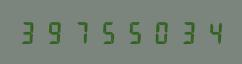five: (95, 20, 120, 44), (121, 20, 146, 44)
four: (199, 20, 224, 44)
nine: (43, 20, 68, 44)
seven: (69, 20, 94, 44)
three: (17, 20, 42, 44), (173, 20, 198, 44)
zero: (147, 20, 172, 44)
